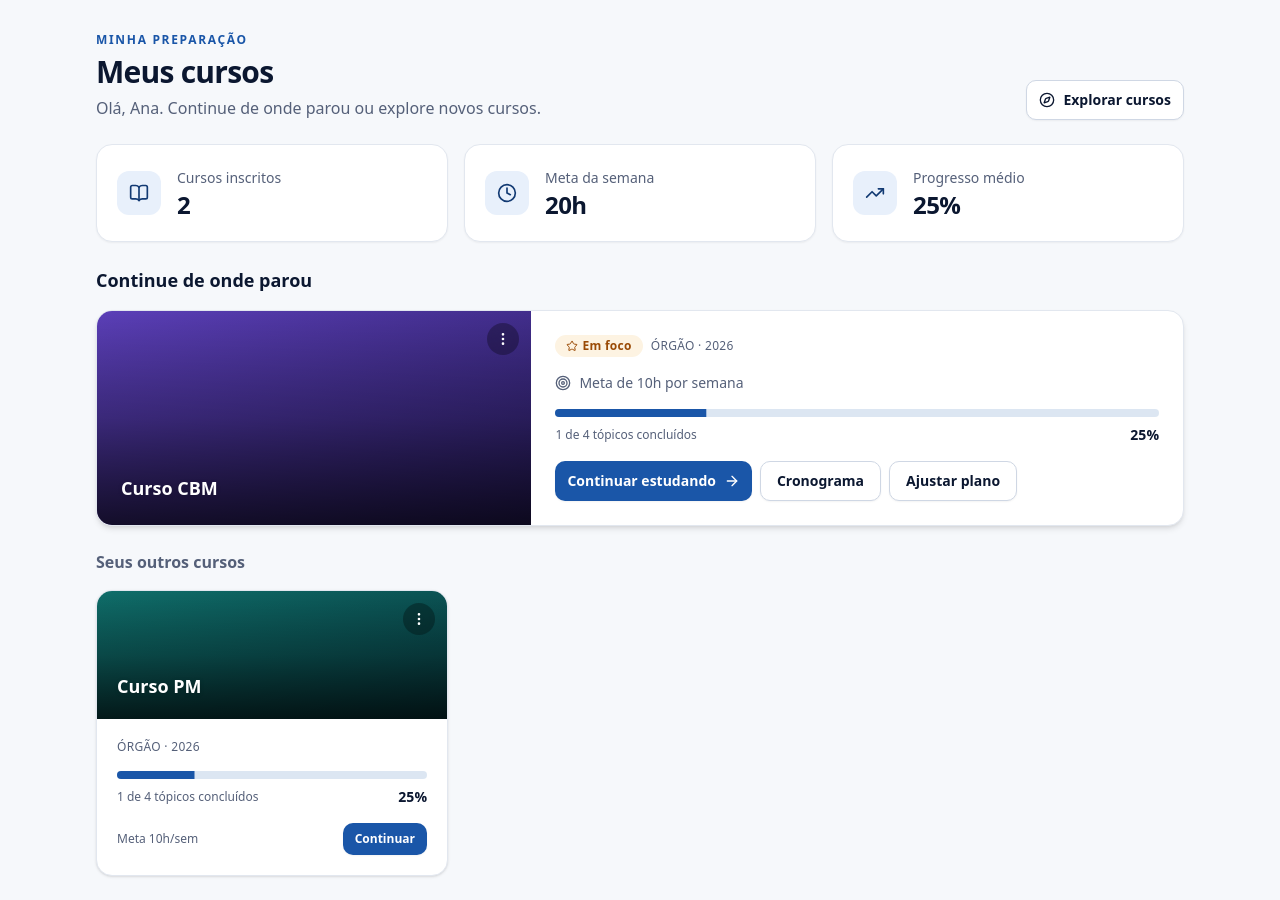
it: Meus cursos › define outro curso como foco
The width and height of the screenshot is (1280, 900).
# As opcoes do card ficam no menu ⋯ da capa.
Click the button named "Mais opções de Curso PM": (419, 619) [403,603,435,635]
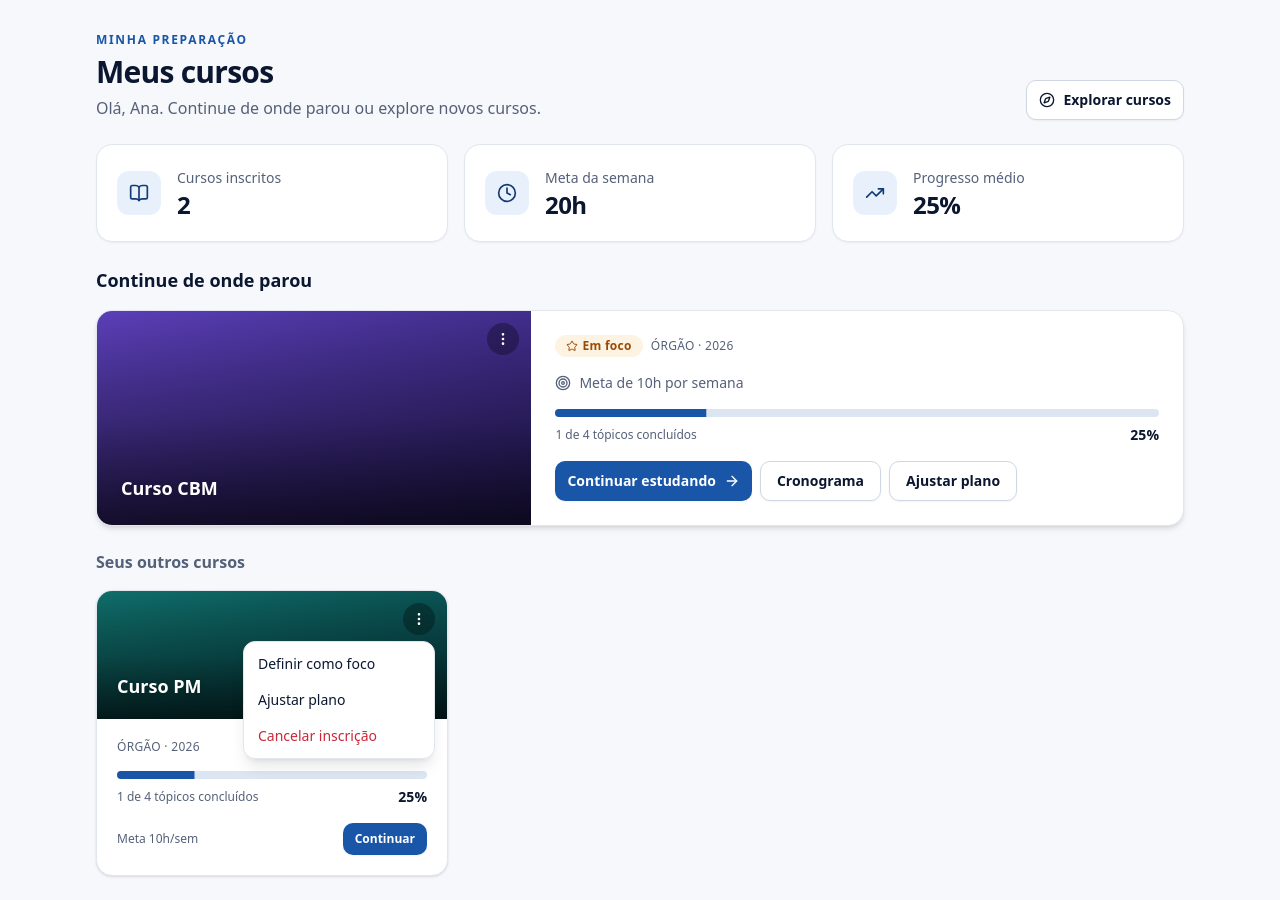
Click the menu item "Definir como foco": (317, 664) [258,654,375,673]
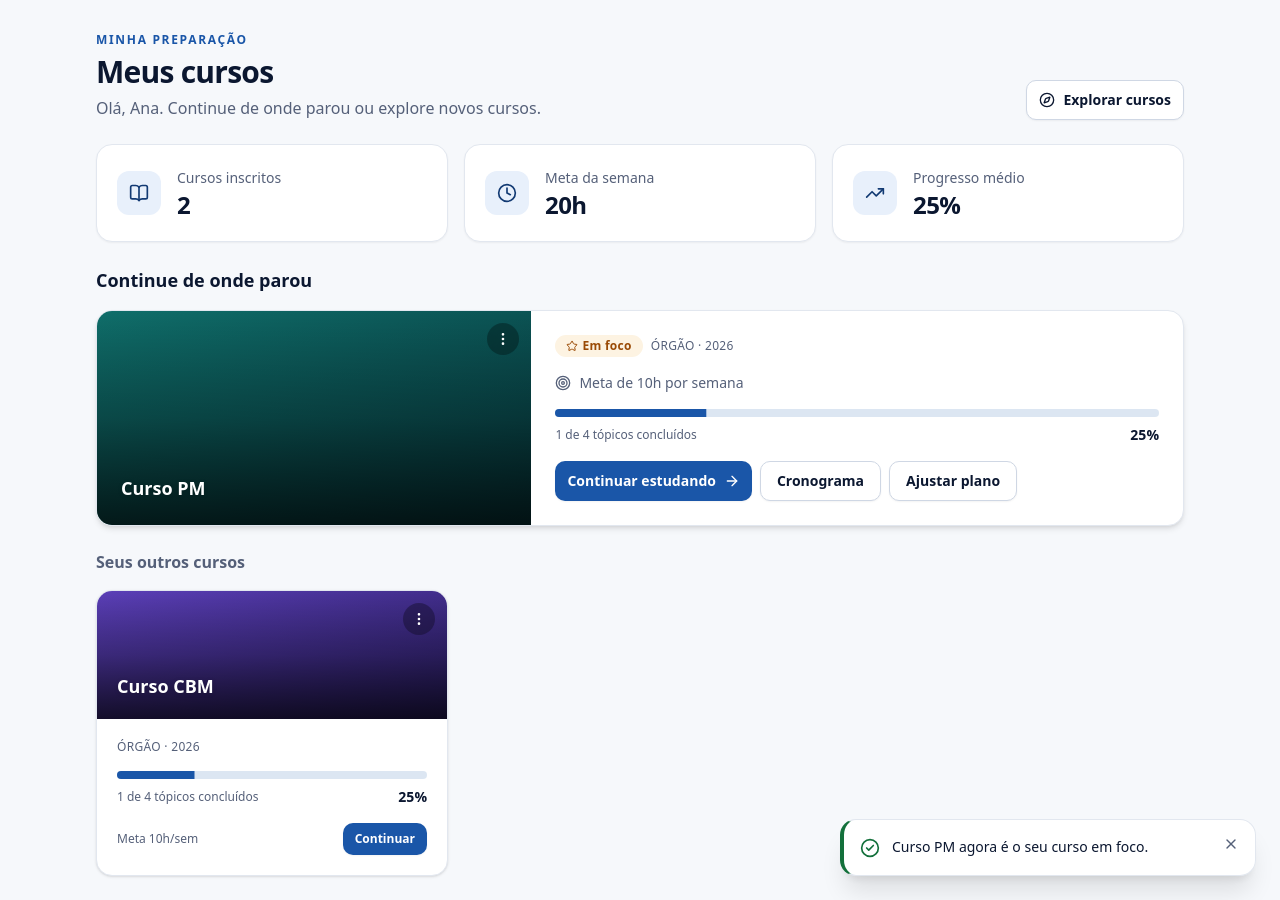
Expected: the text "Curso PM agora é o seu curso em foco." is shown, [892,837,1148,856]
